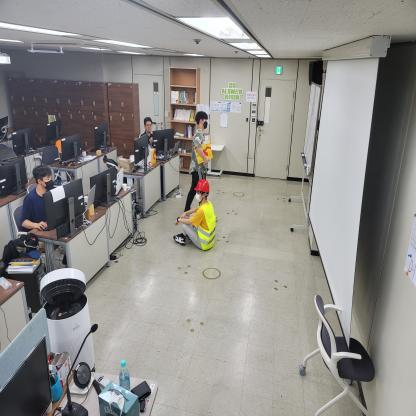Sitting: (178, 181, 216, 251)
Standing: (185, 111, 212, 207)
safety_equipment: (195, 203, 217, 251), (195, 180, 209, 195)
